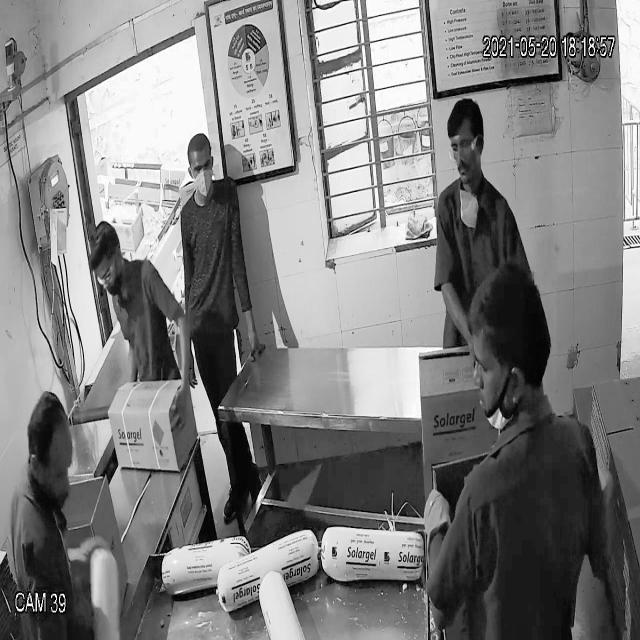glasses: (446, 137, 486, 162)
no-glass: (186, 158, 216, 178)
